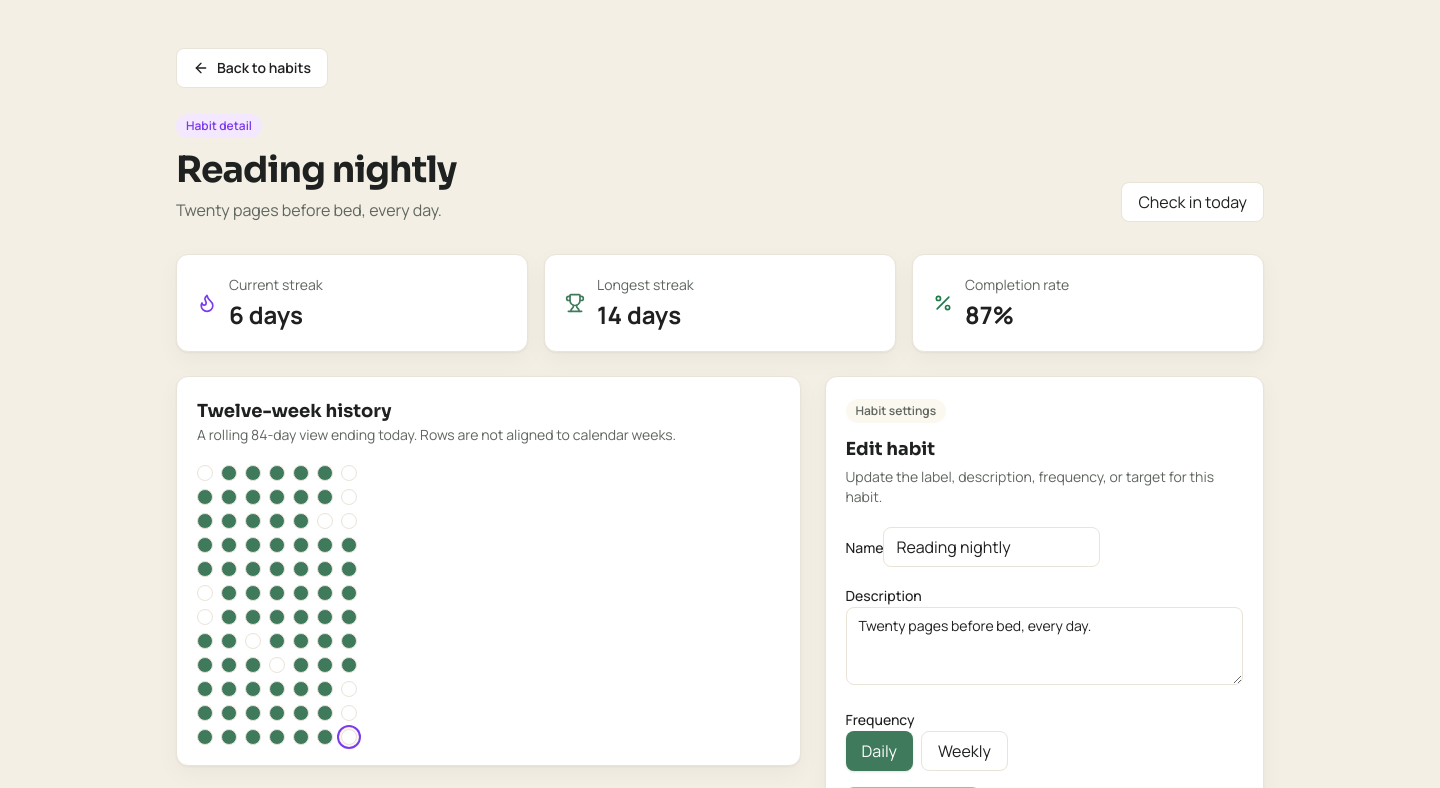
Test case: HabitDetailPage — editing › reveals the weekly target when the frequency is switched
Expected: the field labelled "Target per week" is not shown
What coordinates should you click on to do the following:
click the button "Weekly"
I would click on:
 (964, 751)
Its box is [921,731,1008,771].
(page scrolled)
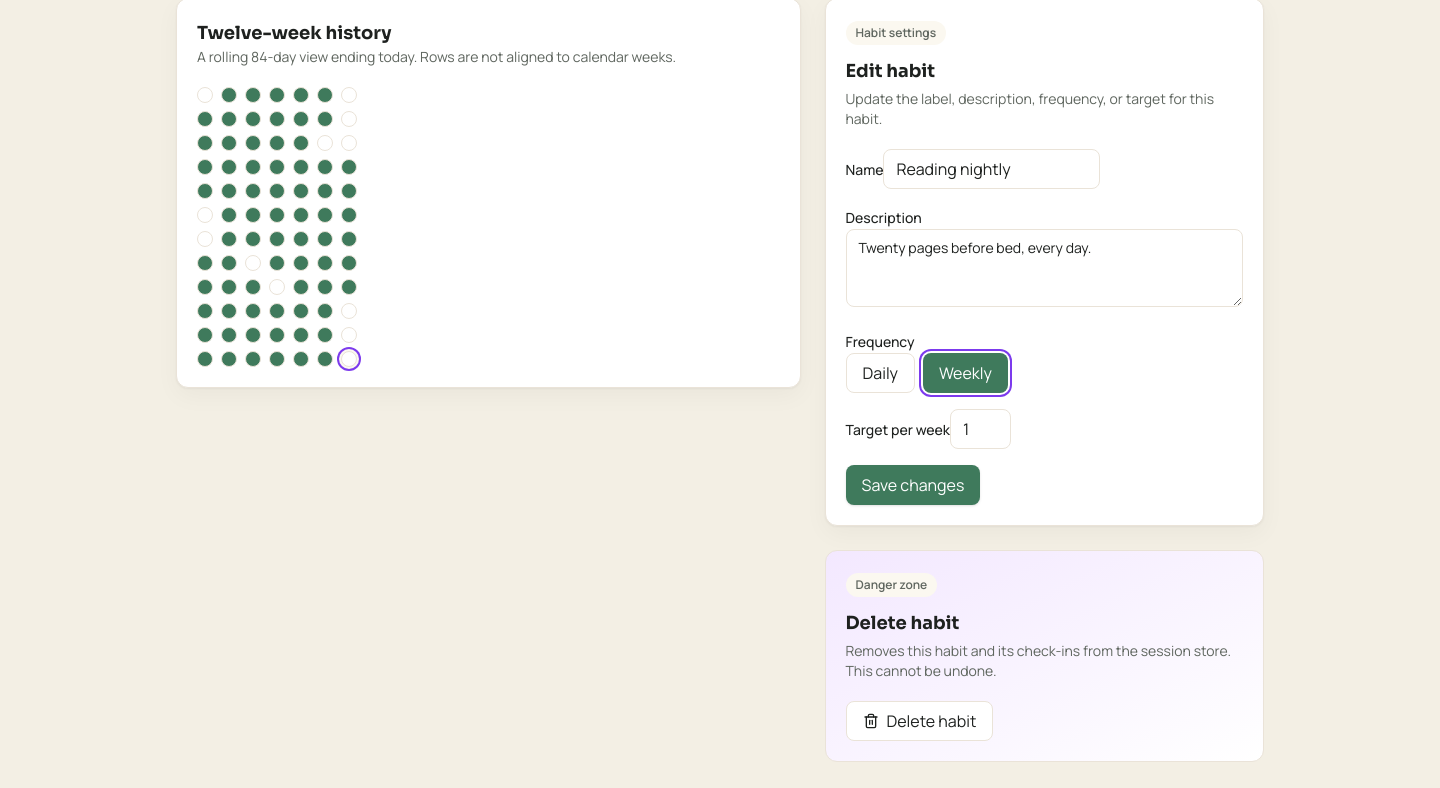
Expected: the number field labelled "Target per week" is shown, [950,409,1011,449]
